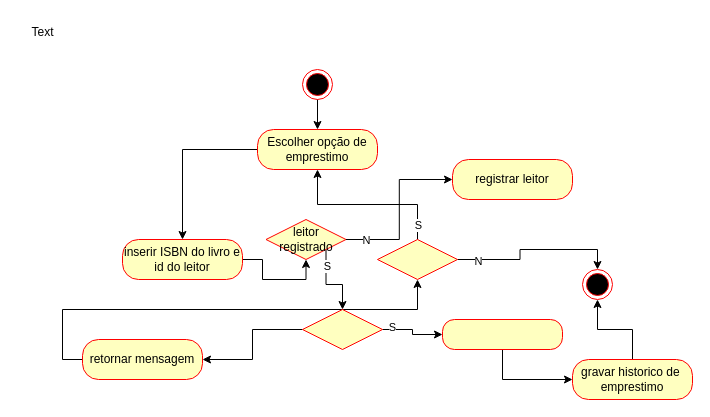
Some shapes in this 710 by 417 pixel diagram are drawn without their labels. Each missing label, with the centre of its shape:
livro disponivel: the point at 342,329
realizar emprestimo: the point at 502,334
tentar novamente: the point at 417,259
